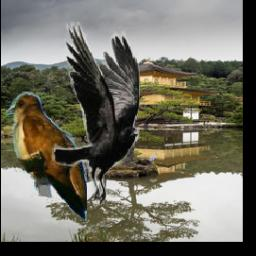Crow: (53, 22, 141, 207)
Cuckoo: (6, 92, 87, 222)
